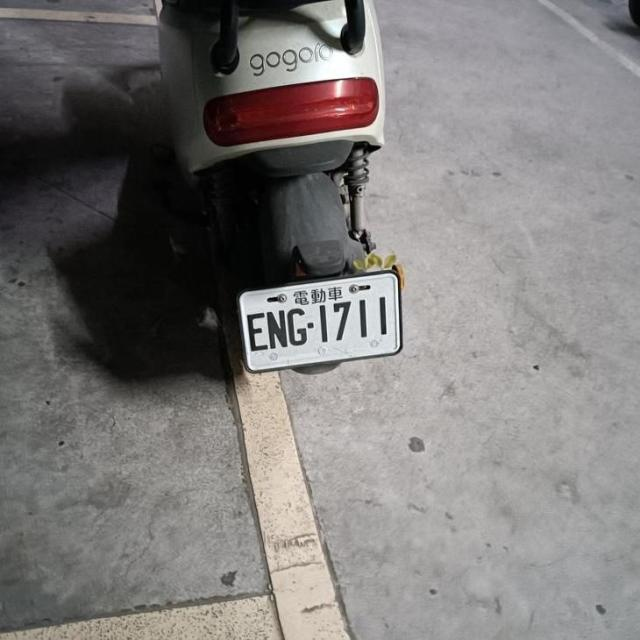W: (232, 267, 410, 376)
